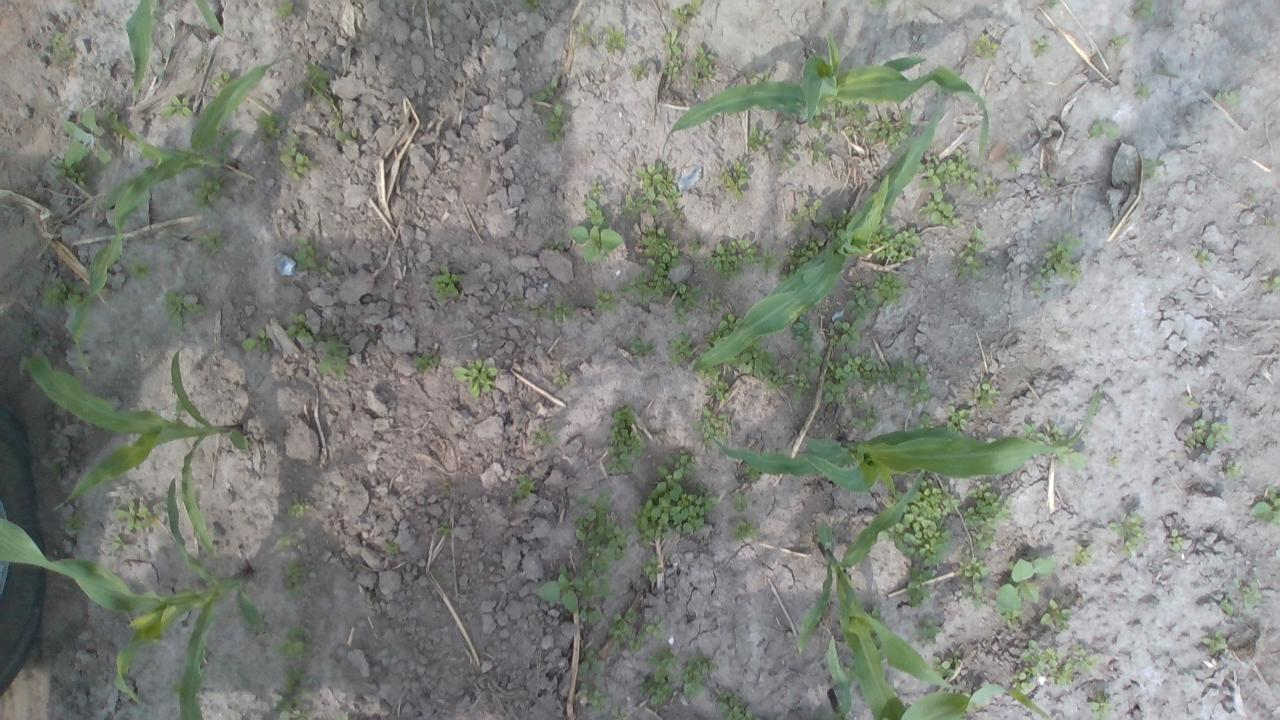Maize: (66, 58, 281, 372), (0, 475, 266, 720), (694, 105, 936, 371), (13, 348, 246, 552), (796, 470, 969, 720), (661, 27, 992, 154), (717, 388, 1103, 496), (806, 632, 1052, 720), (128, 0, 226, 95)
Weeds: (633, 465, 721, 546), (890, 474, 962, 570), (572, 487, 634, 563), (61, 103, 118, 172), (994, 552, 1057, 612), (726, 336, 788, 390), (916, 143, 980, 195), (787, 310, 823, 402), (632, 160, 686, 218), (826, 352, 901, 391), (624, 254, 680, 306), (534, 560, 587, 614), (1037, 231, 1087, 288), (865, 216, 923, 264), (605, 404, 643, 476), (636, 646, 678, 706), (1020, 639, 1074, 685), (706, 236, 758, 281), (962, 482, 1014, 525), (568, 224, 622, 264), (892, 358, 932, 411), (862, 113, 913, 153), (679, 652, 718, 702), (162, 288, 206, 332), (781, 232, 823, 278), (452, 358, 499, 398), (957, 554, 990, 610), (638, 222, 682, 263), (274, 670, 310, 720), (918, 190, 962, 229), (1184, 416, 1234, 450), (41, 276, 93, 308), (576, 554, 612, 600), (714, 685, 760, 720), (704, 312, 742, 354), (1247, 480, 1280, 528), (1107, 515, 1146, 555), (280, 132, 312, 180), (694, 360, 730, 402), (318, 334, 350, 378), (110, 500, 156, 530), (609, 608, 641, 651), (694, 407, 732, 443), (428, 265, 464, 303), (870, 268, 905, 307), (270, 624, 309, 659), (672, 283, 704, 324), (906, 566, 936, 608), (284, 310, 319, 346), (718, 160, 748, 200), (50, 158, 90, 188), (845, 280, 875, 320), (848, 396, 881, 432), (1038, 600, 1074, 632), (302, 60, 332, 98), (825, 320, 863, 350), (575, 680, 608, 714), (190, 174, 222, 209), (844, 98, 870, 140), (808, 98, 844, 128), (1054, 443, 1090, 472), (931, 647, 962, 680), (255, 109, 283, 144), (294, 236, 321, 272), (158, 94, 195, 120), (956, 249, 986, 281), (787, 199, 822, 226), (944, 404, 974, 435), (283, 558, 304, 601), (974, 378, 1001, 411), (668, 334, 695, 366), (238, 327, 270, 354), (509, 474, 538, 503), (1070, 644, 1098, 674), (51, 30, 74, 66), (544, 103, 564, 144), (825, 208, 852, 238), (578, 646, 604, 676), (583, 197, 609, 227), (671, 0, 702, 25), (1021, 420, 1048, 448), (126, 253, 152, 282), (1086, 693, 1113, 720), (592, 286, 618, 314), (1202, 628, 1228, 656), (974, 32, 1000, 60), (1238, 580, 1263, 609), (748, 127, 774, 154), (627, 334, 657, 357), (729, 517, 754, 544), (641, 614, 666, 640), (1088, 121, 1122, 140), (198, 227, 226, 250), (964, 225, 986, 254), (693, 47, 714, 77), (1214, 87, 1244, 108), (1072, 542, 1098, 566), (531, 80, 559, 102), (642, 552, 661, 584), (973, 524, 996, 550), (820, 381, 846, 404), (536, 304, 571, 321), (810, 136, 830, 165), (604, 25, 627, 50), (918, 618, 942, 641), (1031, 36, 1054, 60), (758, 248, 779, 274), (996, 606, 1024, 625), (207, 69, 230, 92), (621, 194, 645, 216), (662, 29, 682, 55), (530, 430, 558, 448), (270, 0, 297, 18), (1009, 672, 1033, 692), (1140, 158, 1164, 178), (916, 412, 940, 432), (742, 70, 771, 86), (415, 353, 440, 371), (742, 461, 764, 481), (862, 602, 882, 624), (287, 500, 309, 520), (578, 607, 602, 625), (1132, 0, 1156, 18), (334, 126, 358, 144), (1106, 36, 1127, 56), (1224, 458, 1244, 478), (1005, 152, 1026, 171), (1168, 528, 1184, 552), (662, 61, 682, 80), (1133, 82, 1154, 100), (382, 540, 400, 560), (64, 514, 84, 532), (168, 678, 185, 698), (277, 528, 291, 552), (1192, 248, 1210, 266), (1262, 274, 1280, 291), (982, 176, 999, 194), (551, 367, 569, 384), (630, 62, 646, 80), (1219, 598, 1235, 616), (1048, 423, 1064, 441), (588, 180, 606, 196), (111, 534, 129, 550), (326, 110, 342, 128), (19, 325, 34, 344), (734, 491, 748, 510), (1182, 393, 1198, 409), (436, 520, 452, 536), (544, 239, 564, 251), (781, 142, 796, 158), (708, 296, 722, 312), (868, 0, 888, 11), (519, 0, 540, 10), (1028, 281, 1040, 298), (573, 24, 589, 36), (688, 74, 701, 88), (686, 239, 700, 252), (1044, 0, 1062, 10), (1038, 170, 1050, 185), (508, 294, 520, 307), (1108, 455, 1120, 466), (826, 124, 834, 134)
